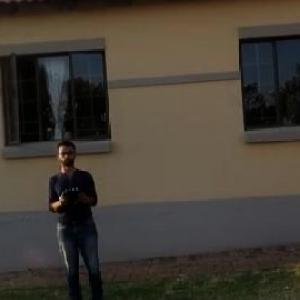follow: (43, 127, 114, 299)
